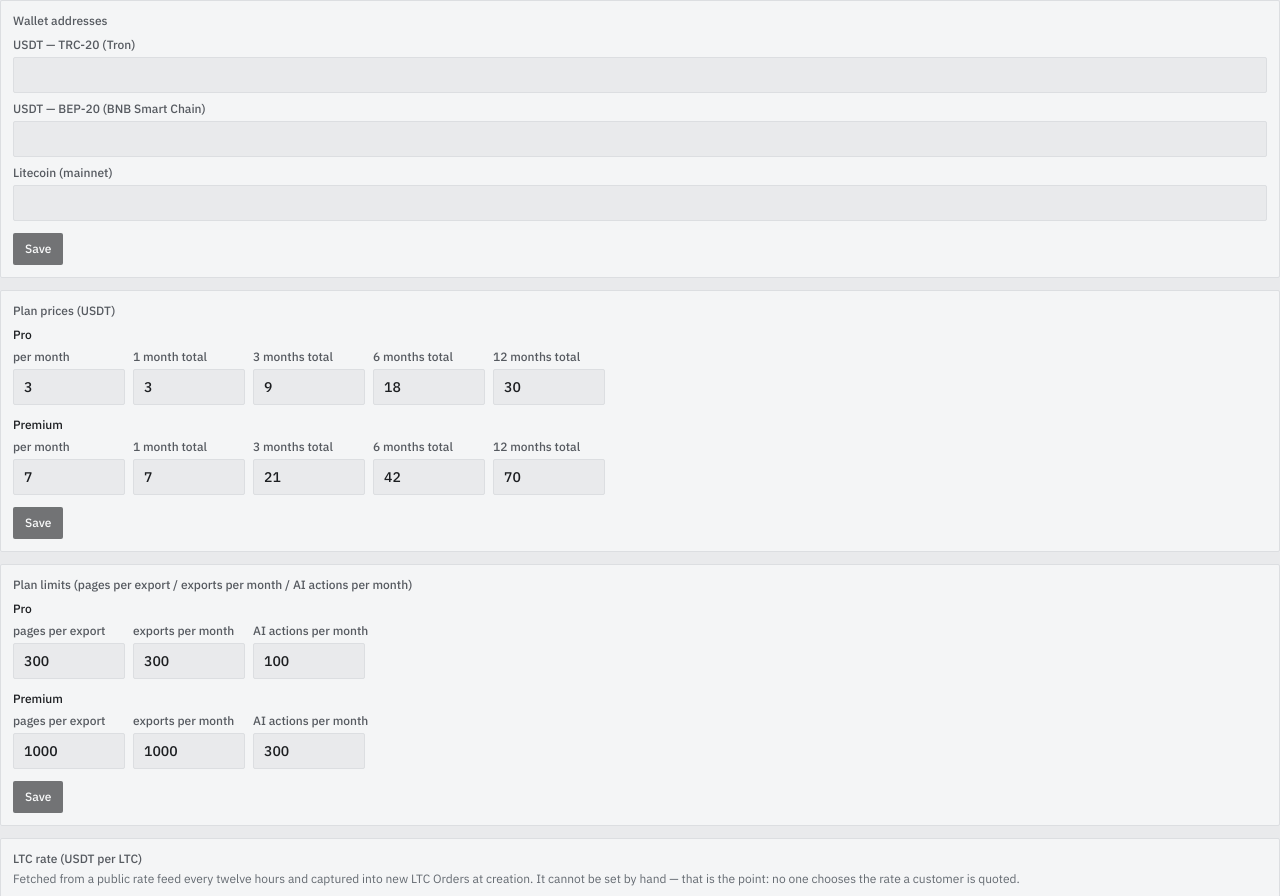
Scenario: rejects invalid limits client-side before a request
The image size is (1280, 896).
Replace the text in the number field with test id "limit-pro-pageCap" with "0": (69, 661) [13,643,125,679]
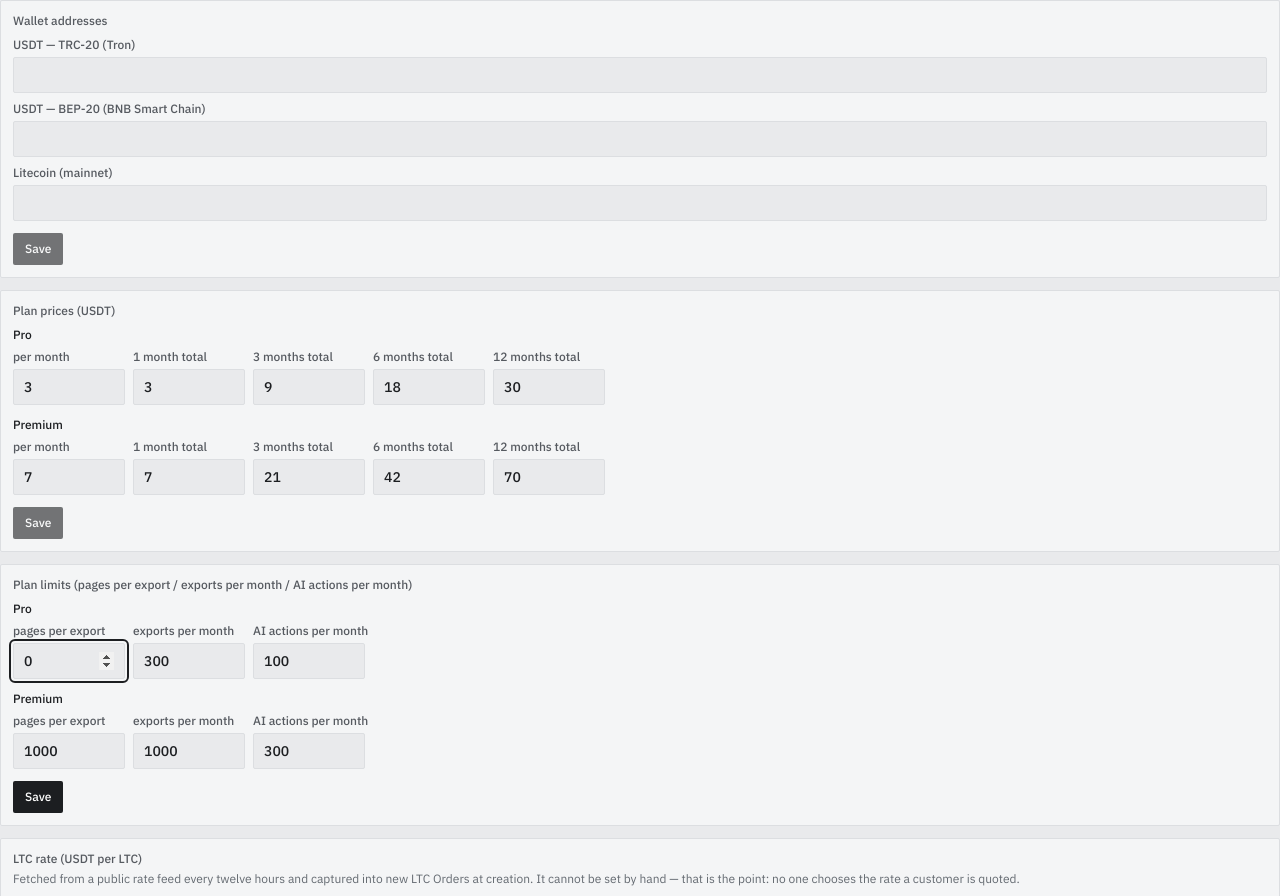
Click the button with test id "limits-save": (38, 797) [13,781,63,813]
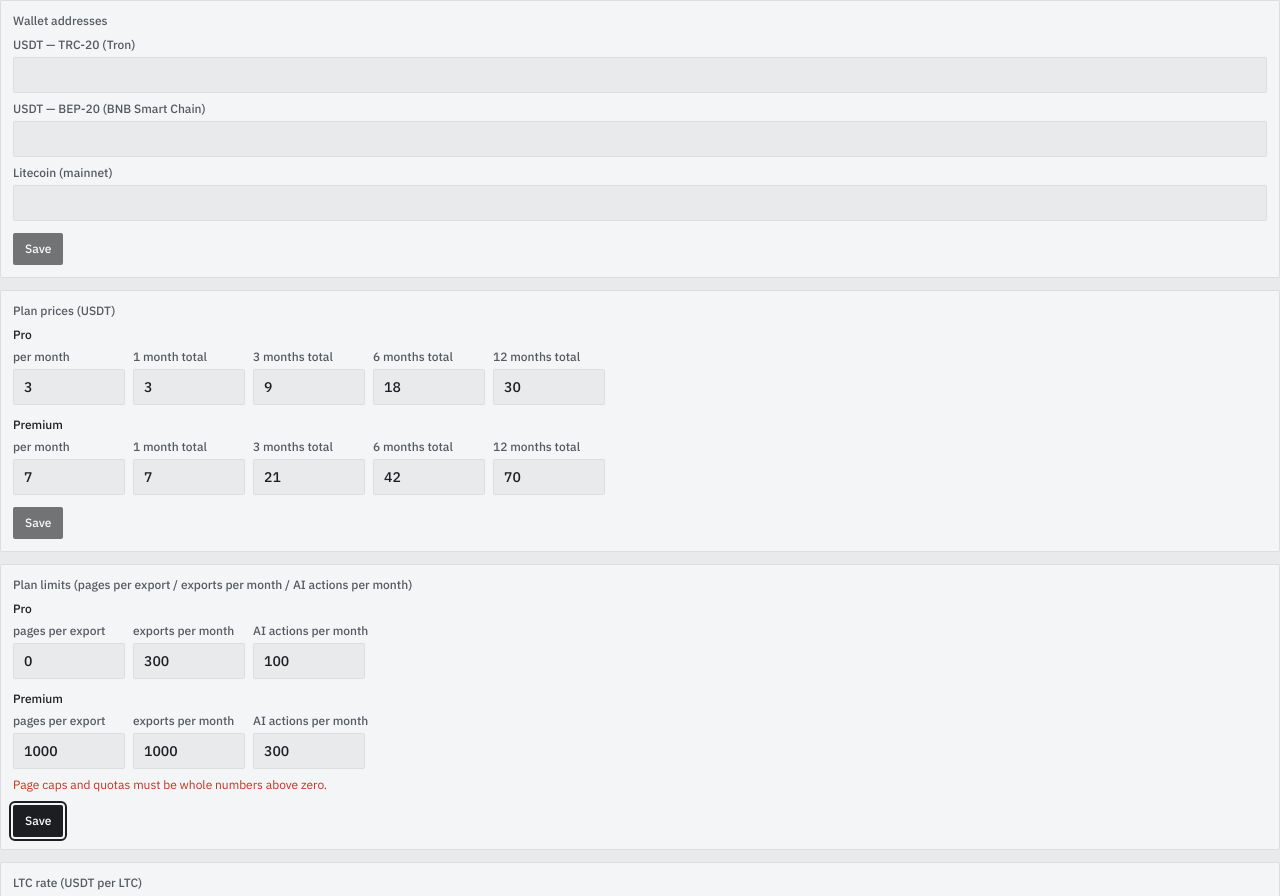
Result: the message reads "Page caps and quotas must be whole numbers above zero." at [13,777,327,792]
